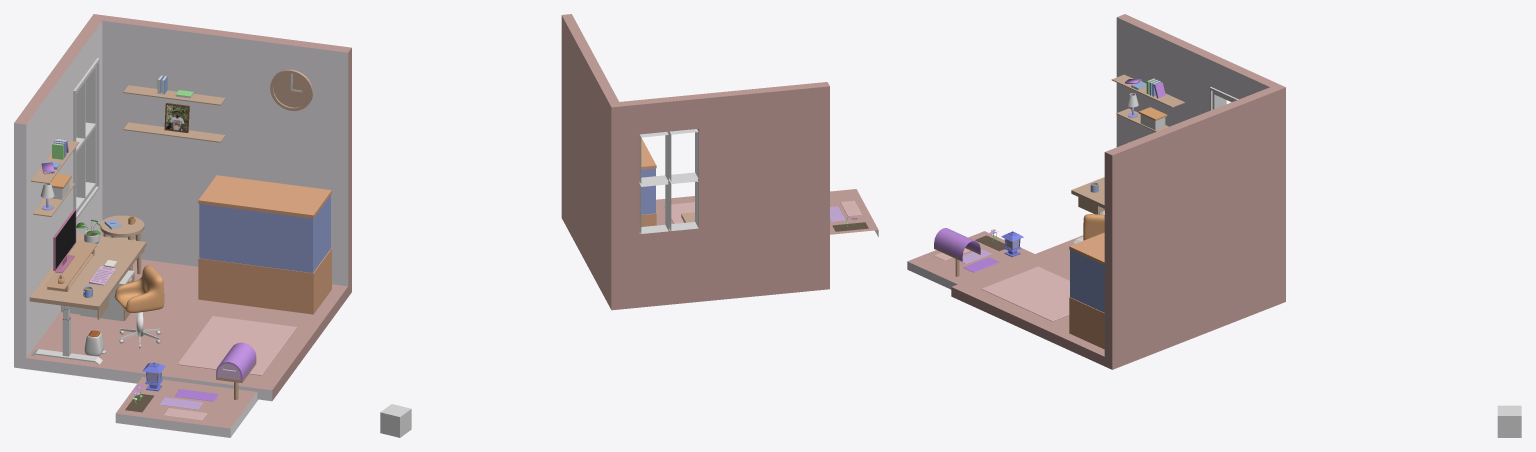
File: Finale Version 17.glb
3 views of the same model, side by side, from view 1: azimuth 30°, elevation 25°; view 2: azimuth 150°, elevation 25°; view 3: azimuth 270°, elevation 25° (orthographic). The views are drawn at different scales.
Parts seen in each view (by area): view 1: Body, Aquarium, Desks, Floor Items, Mini Floor, Shelves, Table Stuff, Chair, Clock, Mailbox, Computer, Lamp (+3 smaller); view 2: Body, Mini Floor, Aquarium, Cube; view 3: Body, Aquarium, Floor Items, Mini Floor, Shelves, Mailbox, Desks, Cube.
Part boxes in pixels (x1,y1,x2,y2): Body: [14, 14, 351, 401]; Aquarium: [198, 175, 331, 314]; Desks: [29, 215, 146, 364]; Floor Items: [80, 270, 296, 375]; Mini Floor: [115, 377, 258, 437]; Shelves: [30, 75, 225, 216]; Table Stuff: [44, 216, 135, 297]; Chair: [114, 265, 164, 312]; Clock: [270, 69, 313, 110]; Mailbox: [216, 342, 256, 399]; Computer: [53, 209, 76, 273]; Lamp: [142, 362, 165, 391]; Body: [561, 14, 829, 310]; Mini Floor: [830, 189, 878, 236]; Aquarium: [641, 138, 656, 226]; Cube: [380, 404, 411, 437]; Body: [951, 14, 1285, 369]; Aquarium: [1069, 232, 1104, 349]; Floor Items: [981, 266, 1069, 321]; Mini Floor: [907, 231, 1034, 289]; Shelves: [1111, 74, 1184, 131]; Mailbox: [934, 228, 980, 276]; Desks: [1071, 177, 1104, 243]; Cube: [1497, 405, 1521, 437].
Bounding box in the file's own units: 27.58 × 26.25 × 50.63.
42 materials, 1 textured.
